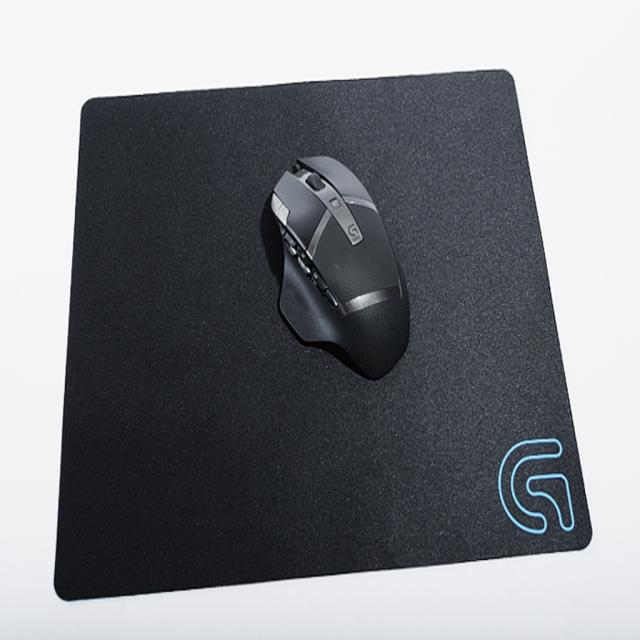Computer-mouse: (268, 154, 411, 384)
